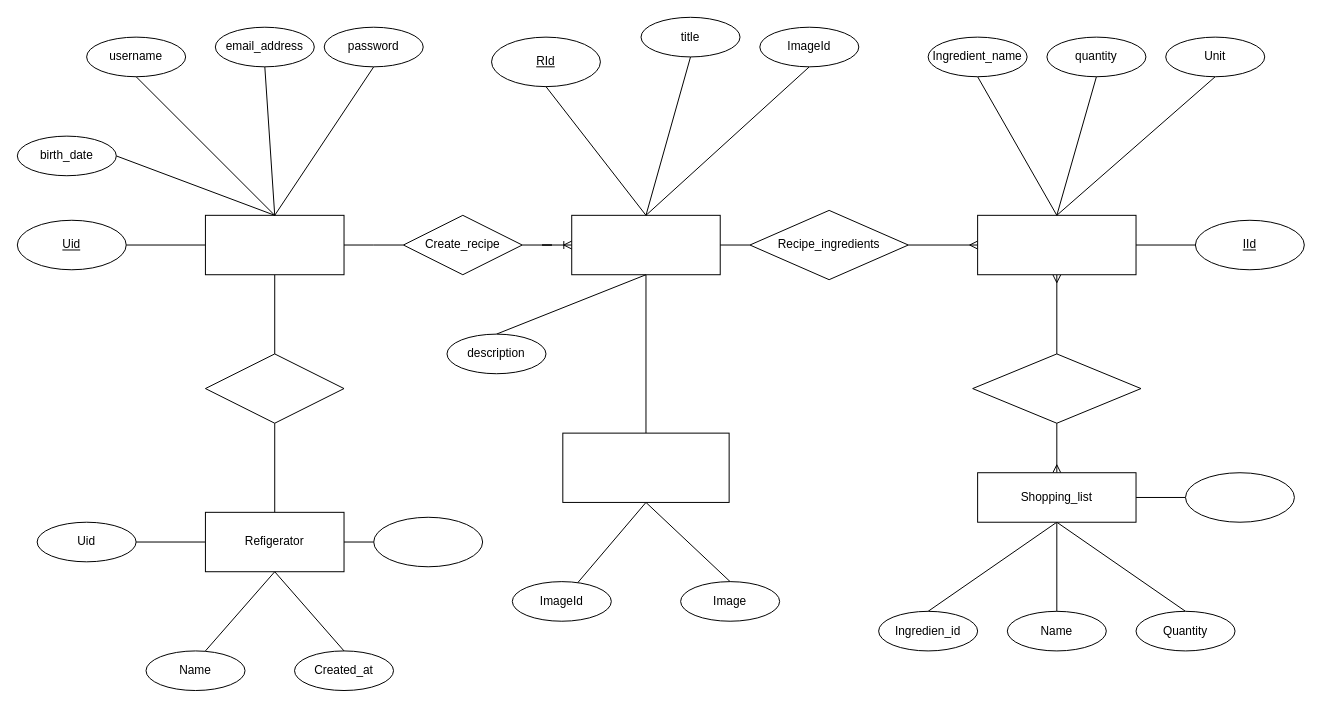
This 1322x708 diagram has some shape labels left out. Each missing label, with the box of its shape:
Images: (562, 432, 729, 502)
Ingredients: (977, 214, 1136, 275)
Recipes: (571, 214, 720, 275)
RefId: (373, 516, 483, 567)
Relationship: (204, 353, 344, 423)
Shopping_list_items: (972, 353, 1141, 423)
SId: (1185, 472, 1294, 522)
Users: (204, 214, 344, 275)
